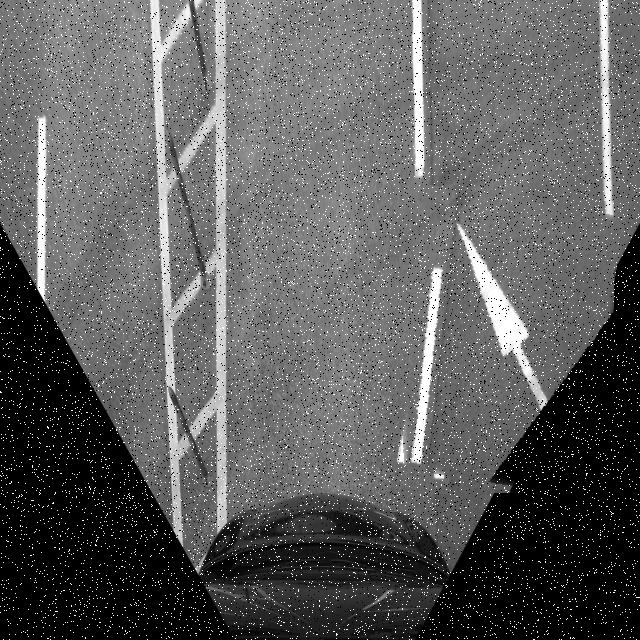chang_lane_left: (390, 192, 614, 494)
